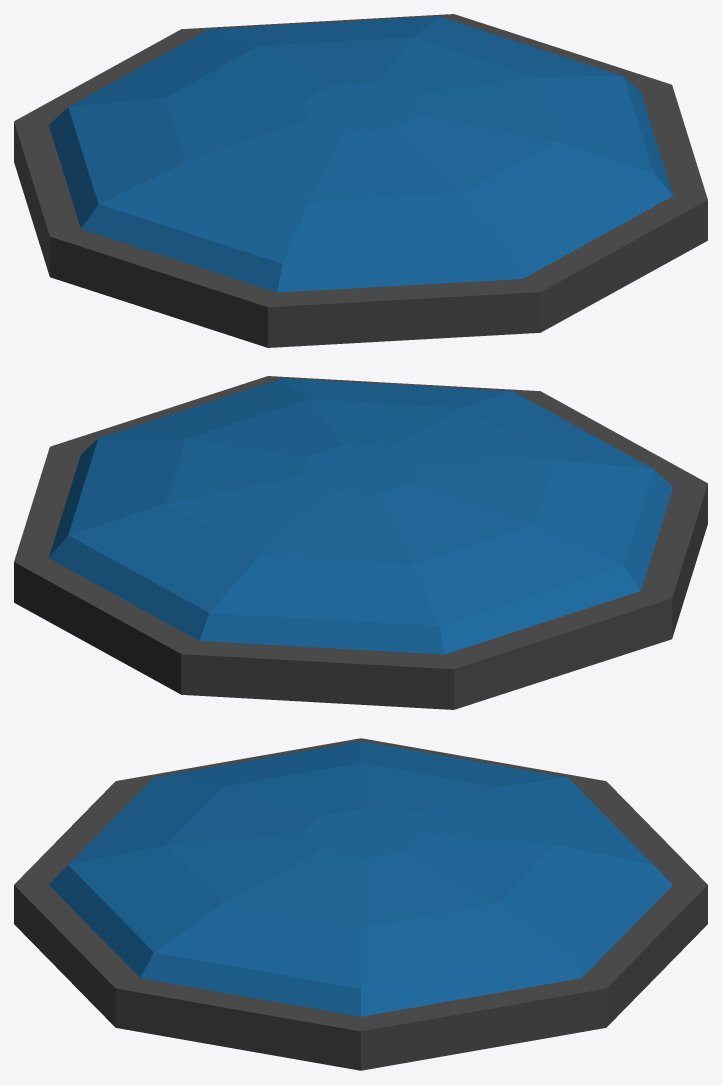
Rendered from Jump pad.fbx.
The picture shows the model from 3 angles, top to bottom: view 1: azimuth 30°, elevation 25°; view 2: azimuth 150°, elevation 25°; view 3: azimuth 270°, elevation 25°; orthographic projection. The views are drawn at different scales.
Visible parts, largest first — view 1: Jump_pad; view 2: Jump_pad; view 3: Jump_pad.
Part boxes in pixels (left/top/right/bottom): Jump_pad: left=14, top=14, right=707, bottom=347; Jump_pad: left=14, top=376, right=707, bottom=709; Jump_pad: left=14, top=738, right=707, bottom=1070.
Size of the model in its own units: 80 by 11.52 by 80.
